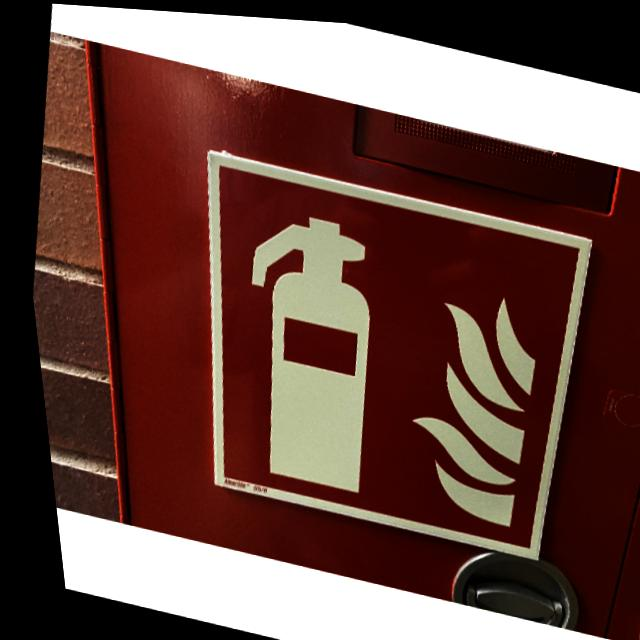fire extinguisher: (145, 143, 616, 565)
